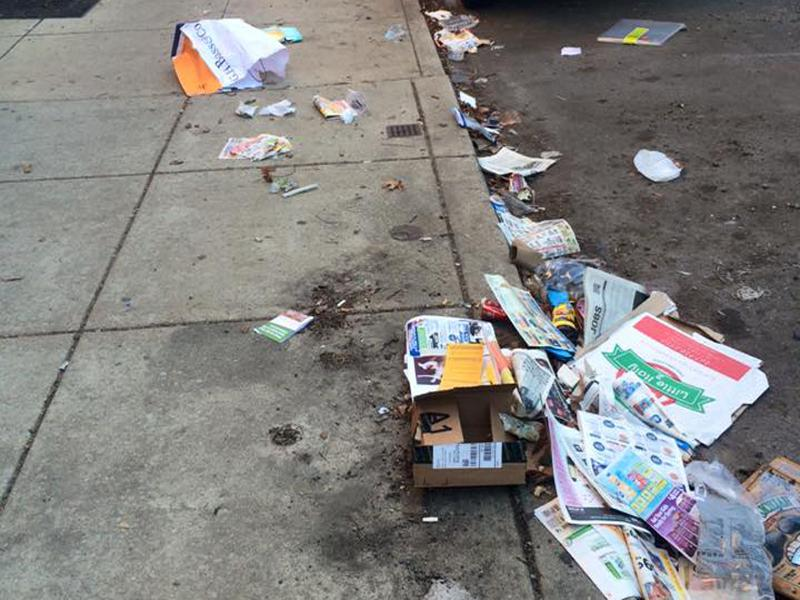cardboard: (552, 294, 769, 450), (406, 388, 547, 496)
paper: (541, 393, 708, 567), (165, 13, 294, 99), (481, 255, 585, 358), (392, 308, 514, 394), (467, 143, 561, 185), (591, 15, 691, 54), (247, 304, 319, 345), (303, 89, 370, 132), (212, 132, 299, 165)
